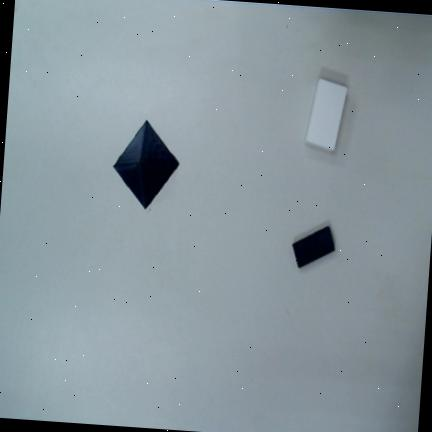Paralelepipedo: (303, 78, 347, 151), (292, 225, 334, 268)
Piramide: (113, 119, 179, 209)
